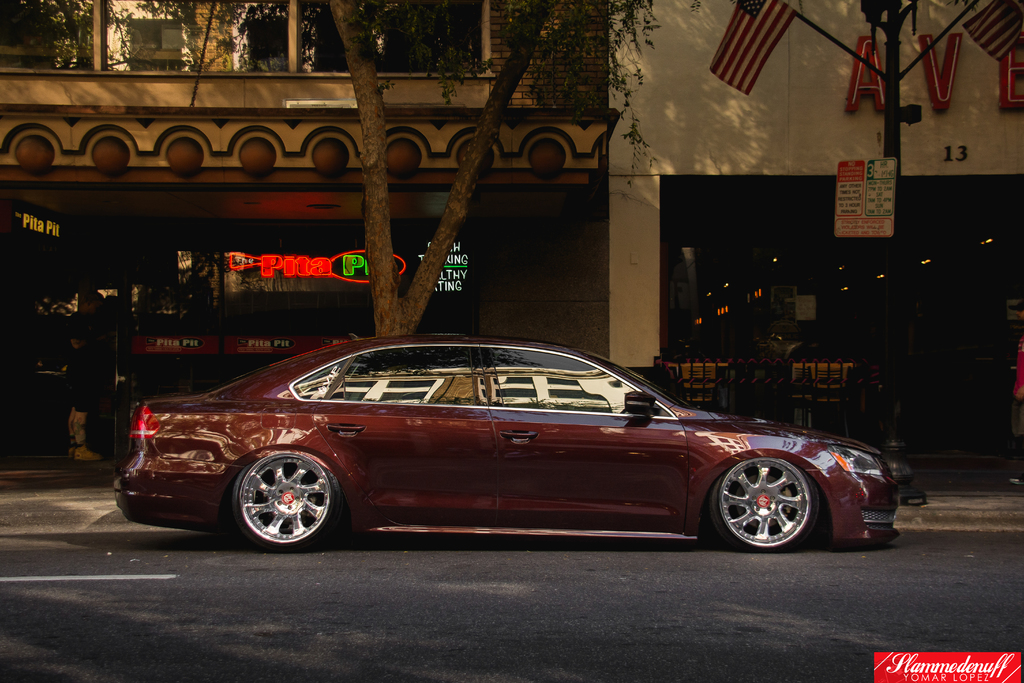Car: (112, 338, 889, 561)
